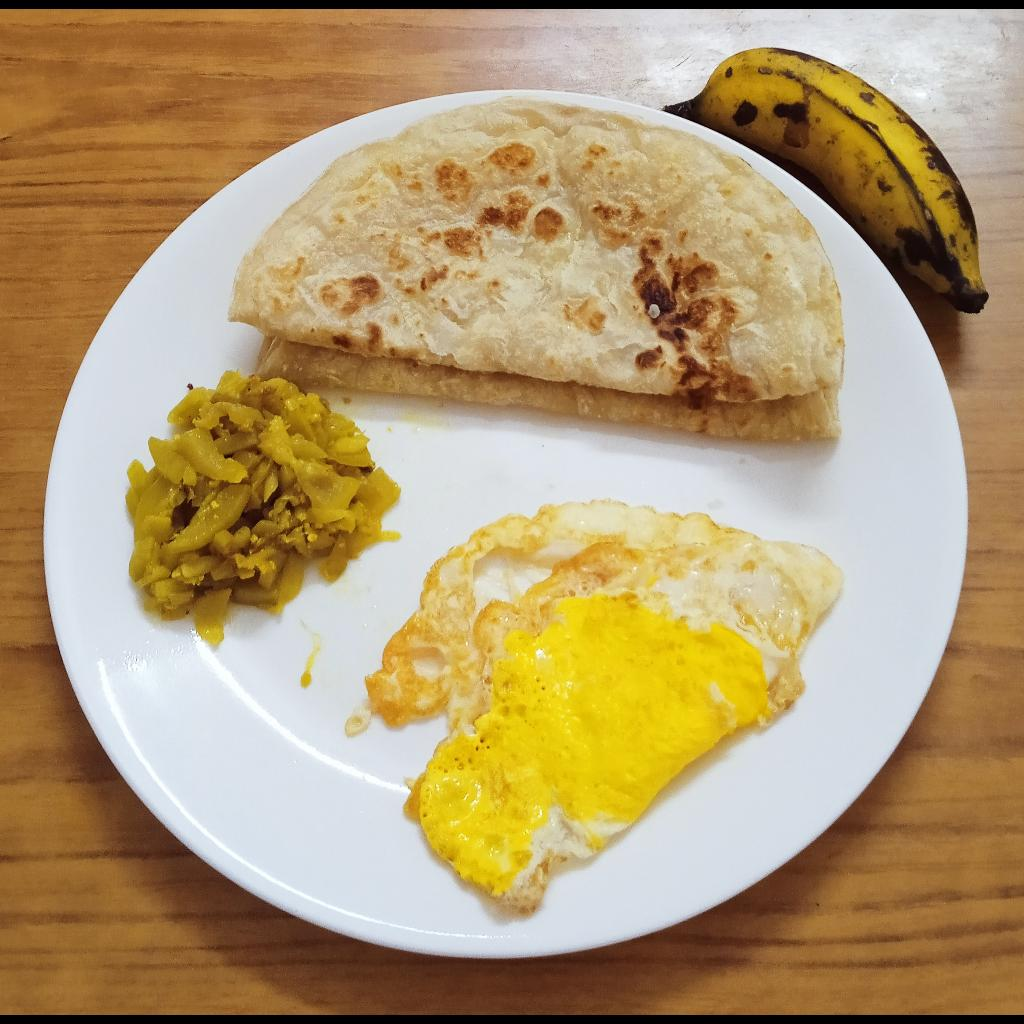banana: (664, 46, 987, 319)
egg-poached: (339, 503, 840, 924)
ruti: (232, 95, 848, 441)
vegetable: (124, 373, 406, 647)
